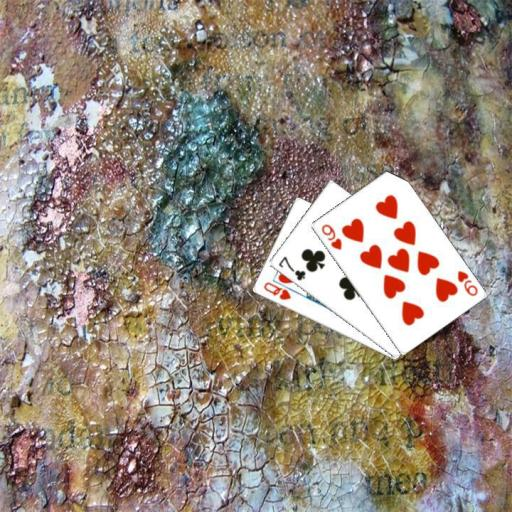7C: (275, 253, 307, 282)
9H: (318, 220, 343, 251), (454, 268, 479, 298)
QH: (261, 279, 293, 302)
